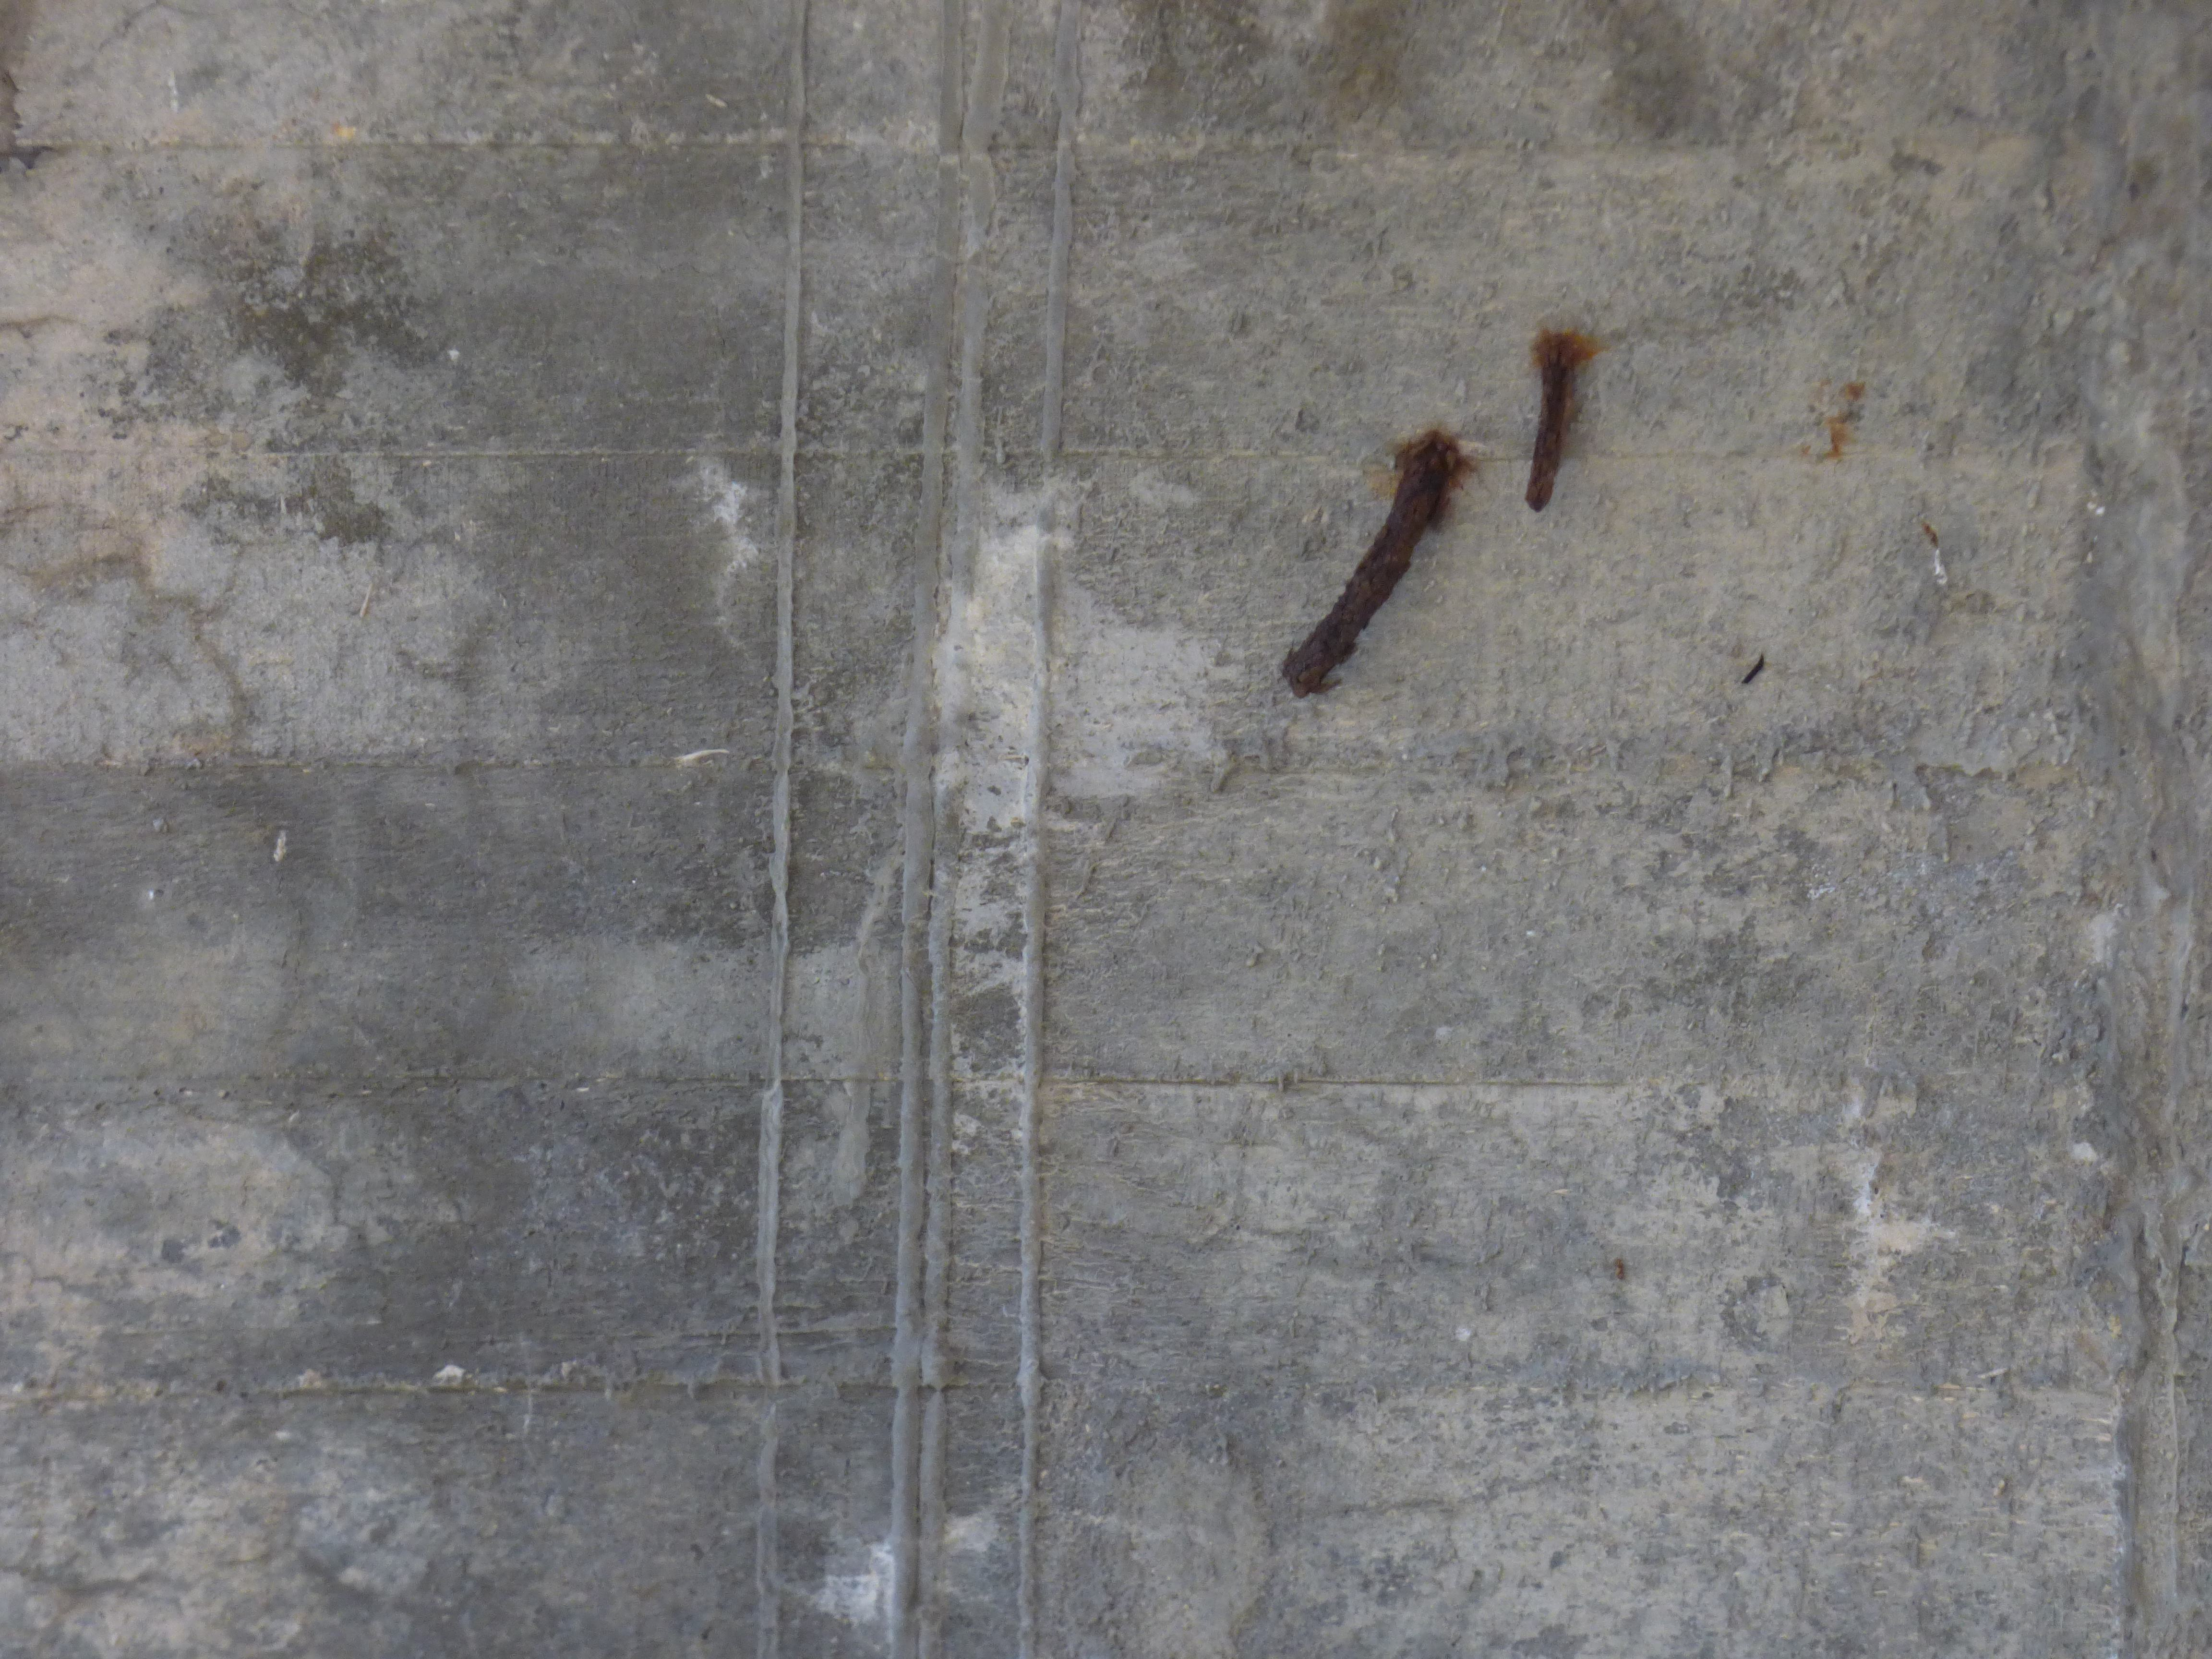Exposed reinforcement: (1280, 444, 1447, 701), (1526, 352, 1571, 514), (1740, 652, 1764, 685)
